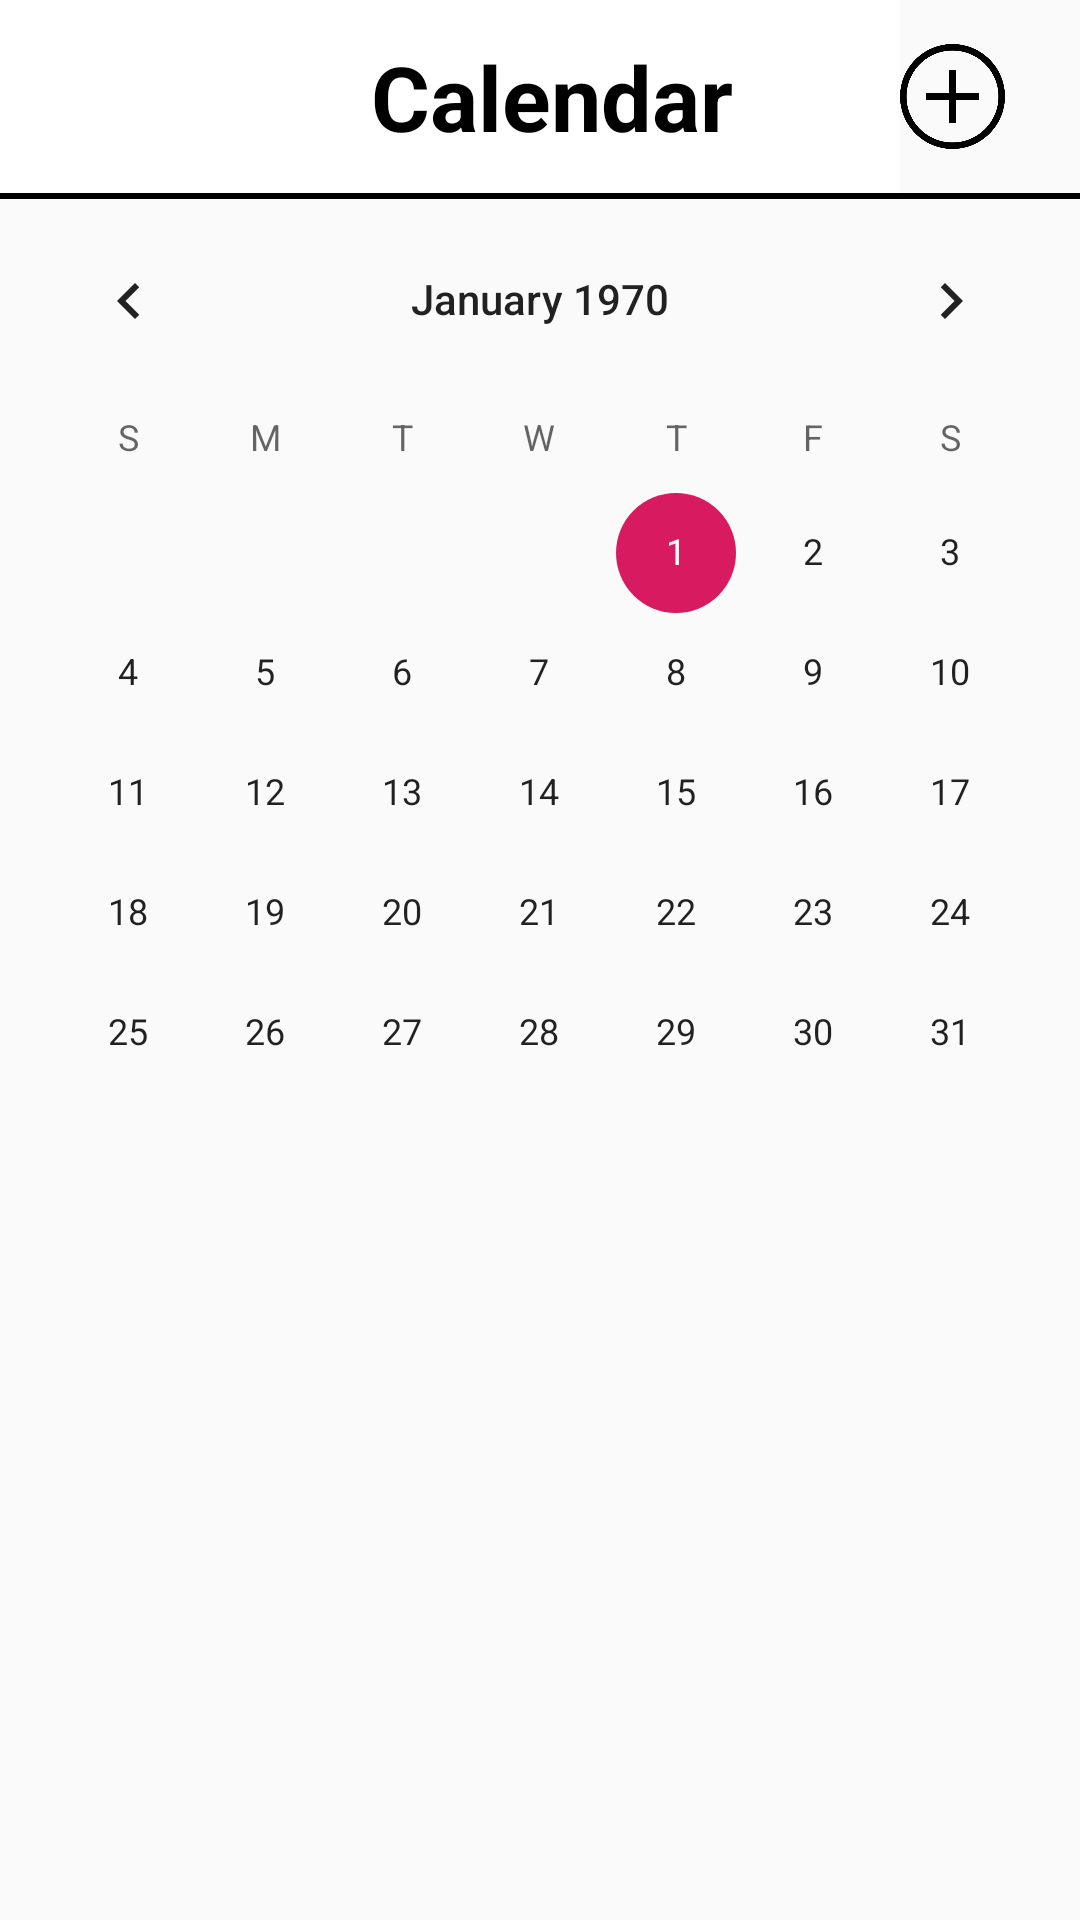

Screen size 1080 × 1920. Icon name, then its box in pixels as (x1, y1, x2, y2):
add: (900, 44, 1005, 149)
